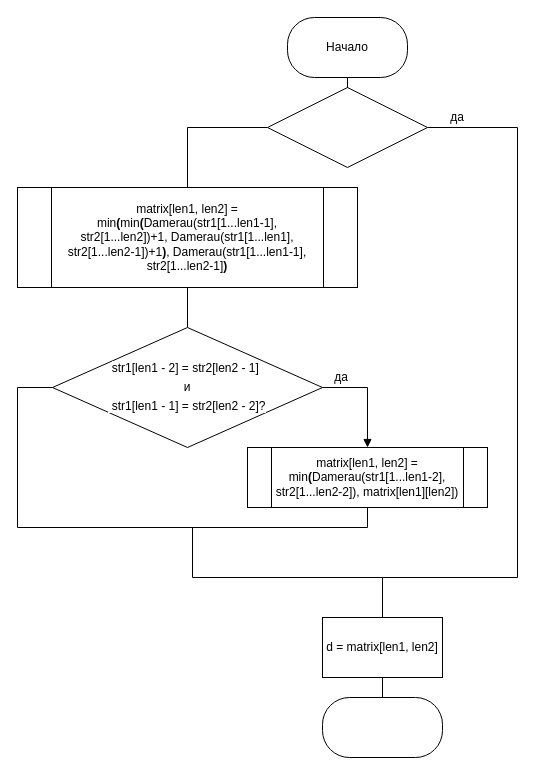
Image size: 536x775. Some labels were removed from this diagram. The shapes that lost their labels are listed below. From the top down, each one's box as (x1, y1, x2, y2) in pixels, then its label:
(266, 86, 428, 168): matrix[len1, len2] != -1?
(322, 696, 442, 758): Конец
